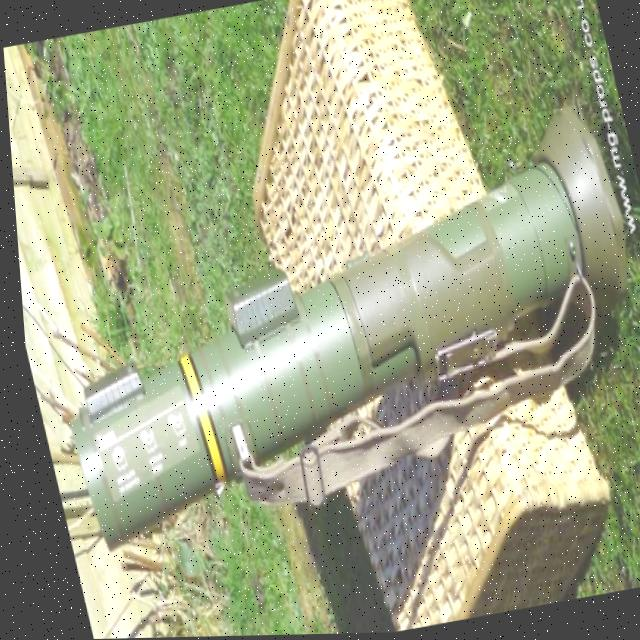rocket: (1, 5, 640, 617)
